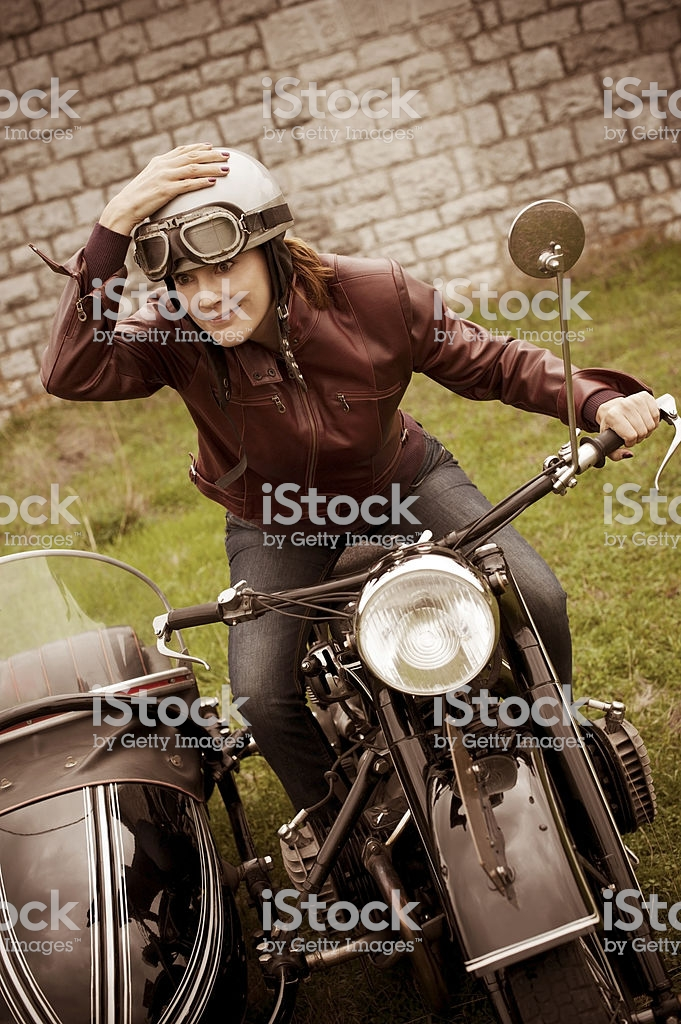helmet: (108, 157, 296, 282)
